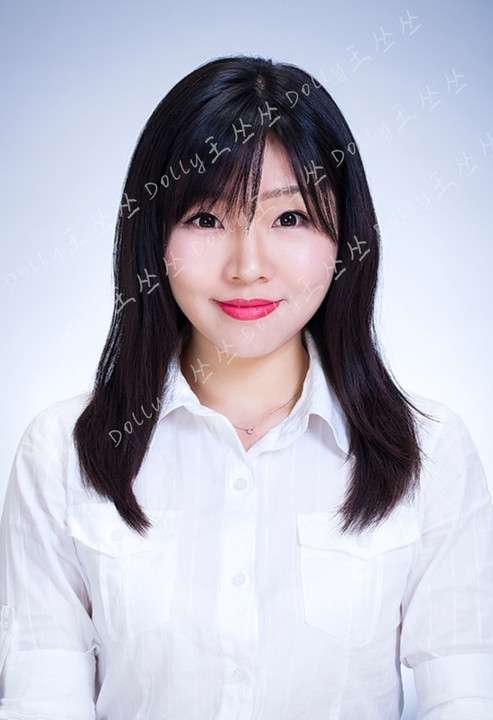unmask: (161, 172, 339, 340)
